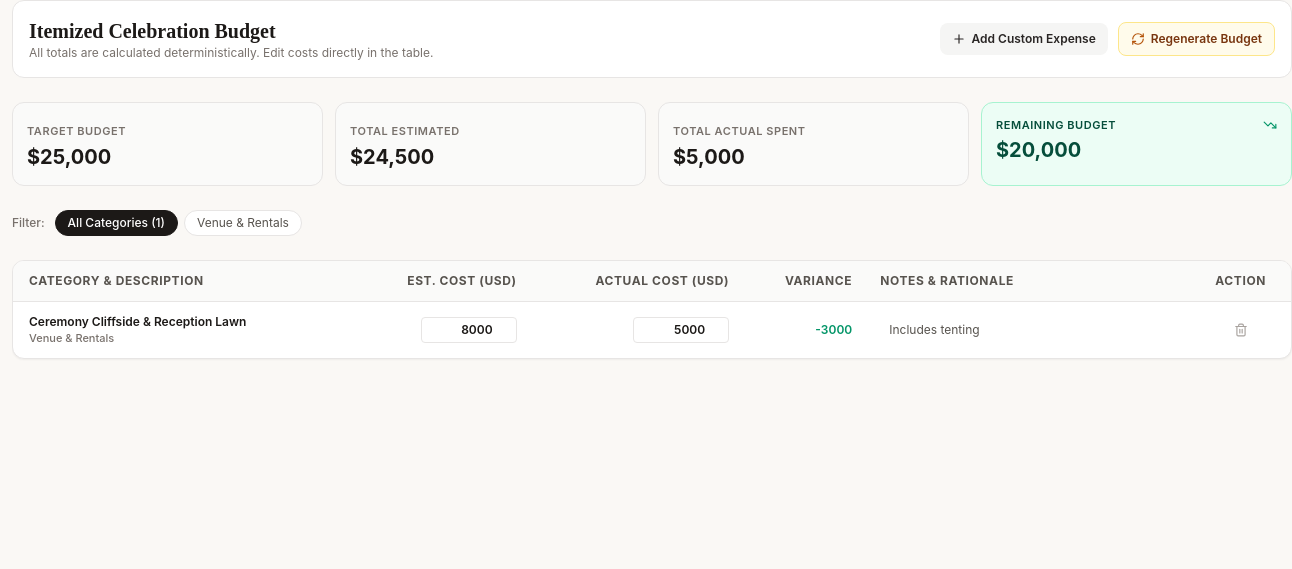
GatherWise Frontend Components › BudgetTab › adds a custom expense row
Click the button "Add Custom Expense" at (1024, 39), box [940,23,1108,55]
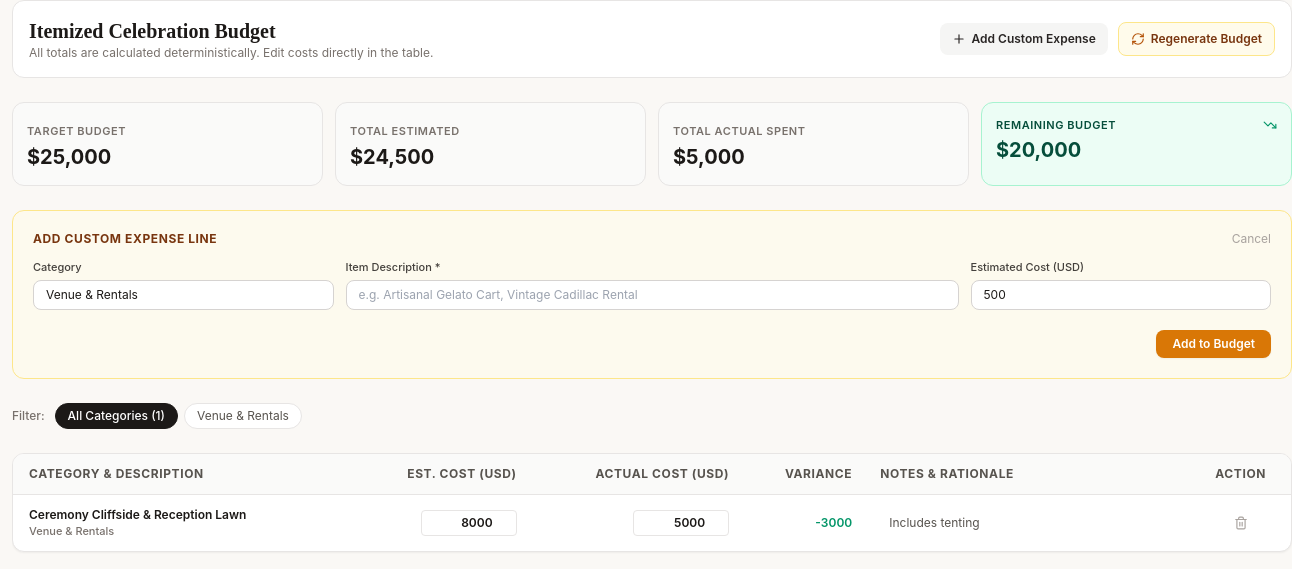
Type "Artisan Gelato Cart" into the field with placeholder "e.g. Artisanal Gelato Cart, Vintage Cadillac Rental" at (652, 294), box [346,280,958,310]
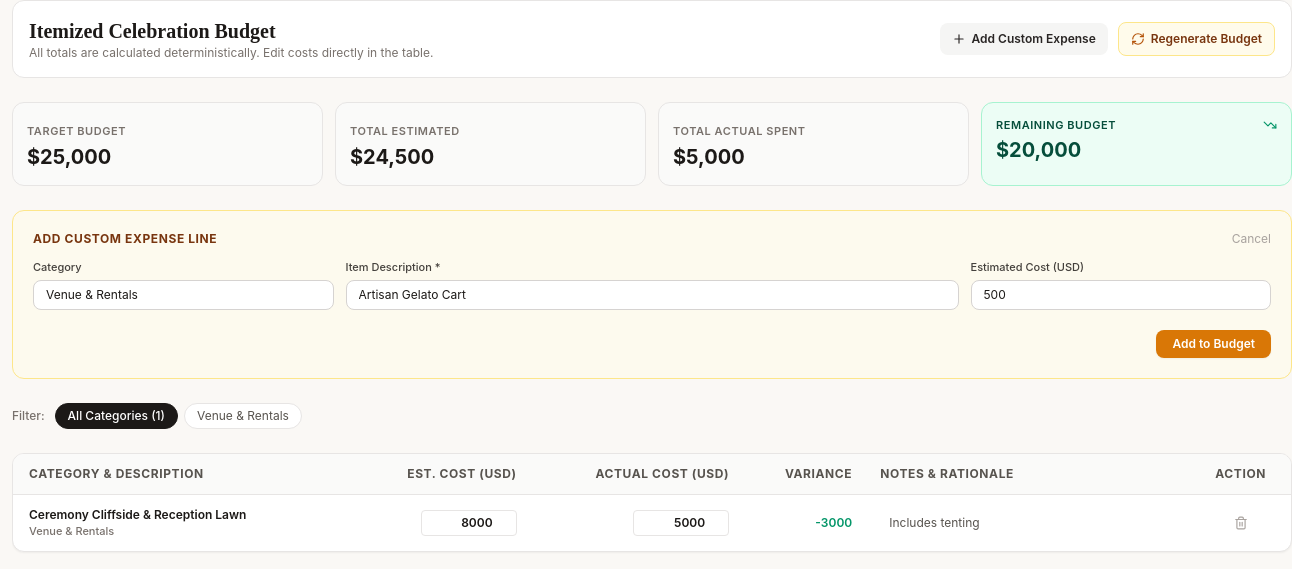
Click the button "Add to Budget" at (1214, 344), box [1156,330,1271,358]
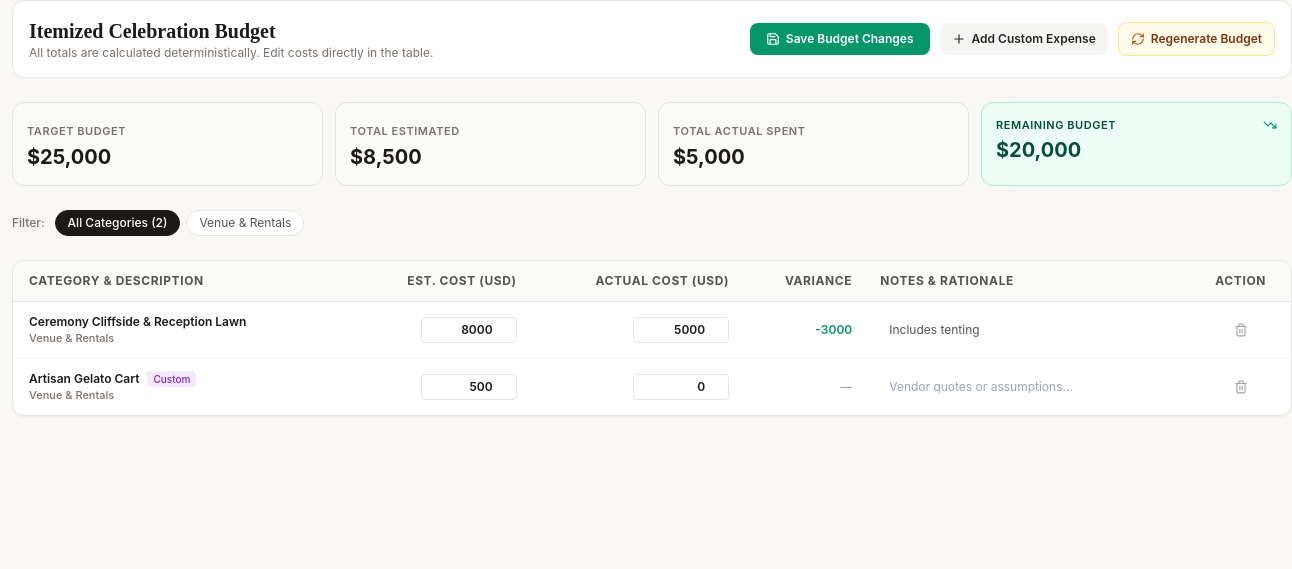
Expected: the text "Artisan Gelato Cart" is shown, [29,371,140,387]
Expected: the text "Save Budget Changes" is shown, [786,31,914,47]
